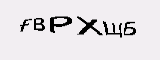Б: (95, 12, 115, 41)
Е: (69, 24, 82, 45)
Ж: (39, 22, 56, 42)
Т: (54, 24, 71, 42)
Х: (80, 16, 96, 41)
